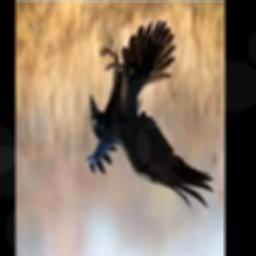Crow: (87, 20, 213, 211)
